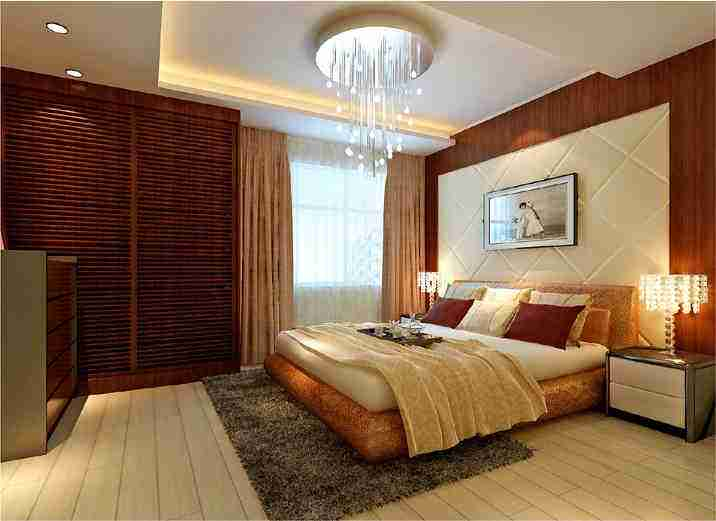床: (261, 320, 608, 464)
枕头: (419, 285, 599, 347)
灯: (310, 19, 436, 186), (641, 269, 708, 359), (413, 268, 444, 314), (43, 22, 71, 38), (60, 67, 84, 82)
